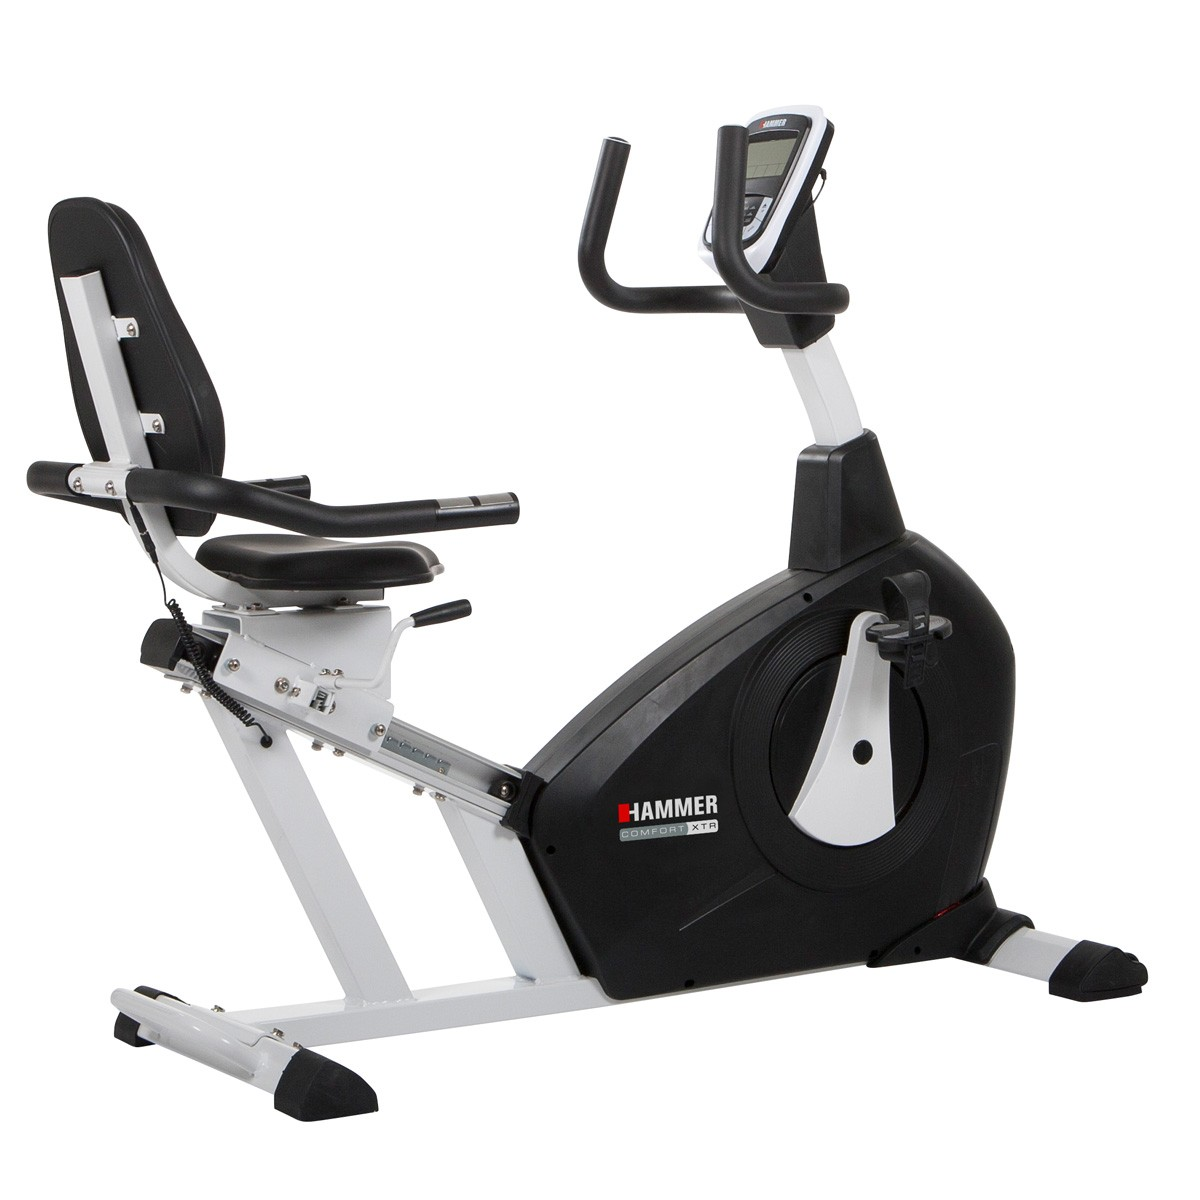gym_bike: (38, 92, 1156, 1170)
